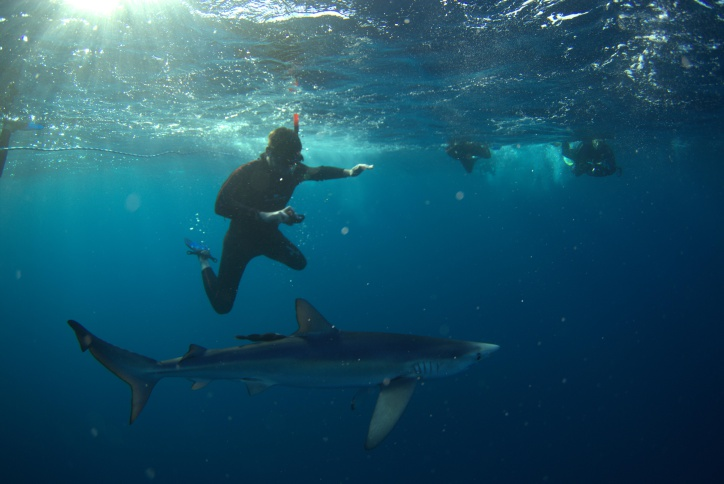Azul: (26, 285, 522, 450)
